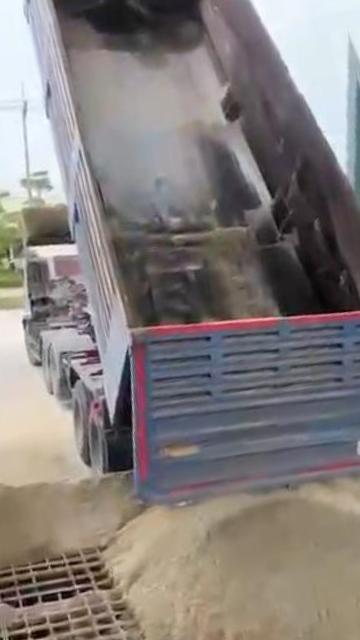sand: (107, 485, 360, 640), (0, 474, 141, 568), (0, 589, 109, 631), (337, 430, 360, 507)
